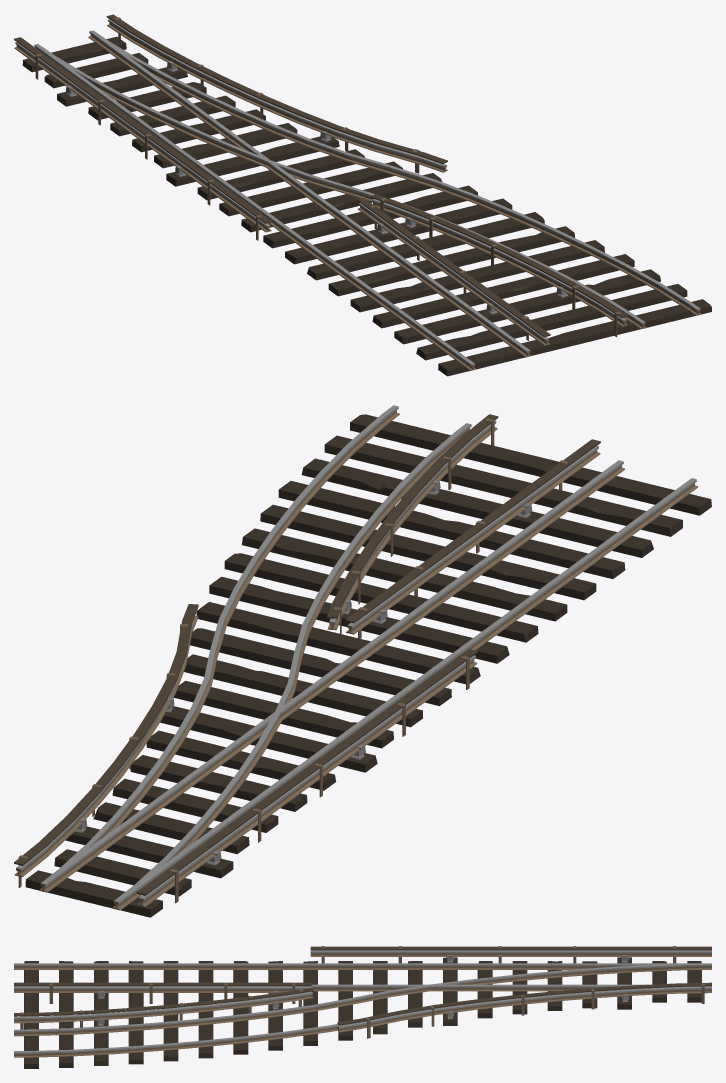
Rendered from SW_ENV_Track_SingleToDouble_20m.fbx.
3 renders of one model, top to bottom at view 1: azimuth 30°, elevation 25°; view 2: azimuth 150°, elevation 25°; view 3: azimuth 270°, elevation 25°, orthographic. The views are drawn at different scales.
Parts seen in each view (by area): view 1: SW_ENV_Track_SingleToDouble_20m; view 2: SW_ENV_Track_SingleToDouble_20m; view 3: SW_ENV_Track_SingleToDouble_20m.
Part boxes in pixels (left/top/right/bottom): SW_ENV_Track_SingleToDouble_20m: left=14, top=14, right=711, bottom=376; SW_ENV_Track_SingleToDouble_20m: left=14, top=405, right=711, bottom=917; SW_ENV_Track_SingleToDouble_20m: left=14, top=946, right=711, bottom=1068.
Size of the model in its own units: 724 by 58.74 by 2000.
